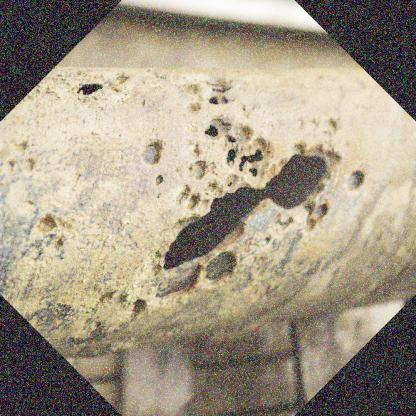burst: (156, 130, 344, 286)
